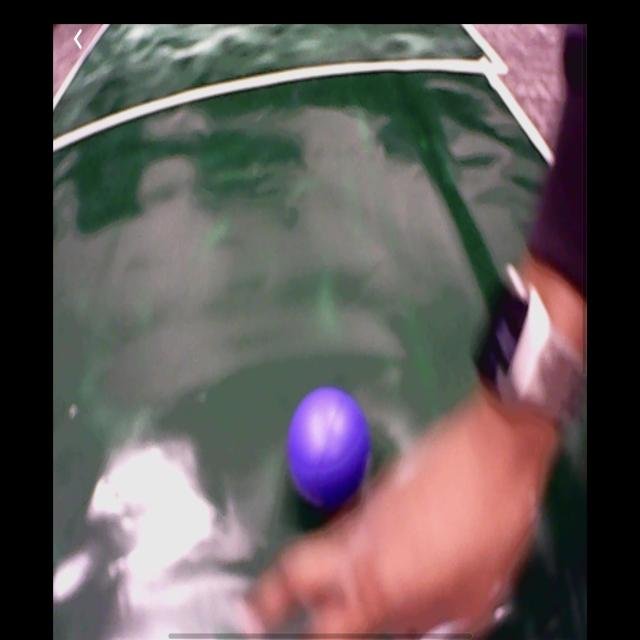ball: (288, 386, 373, 509)
